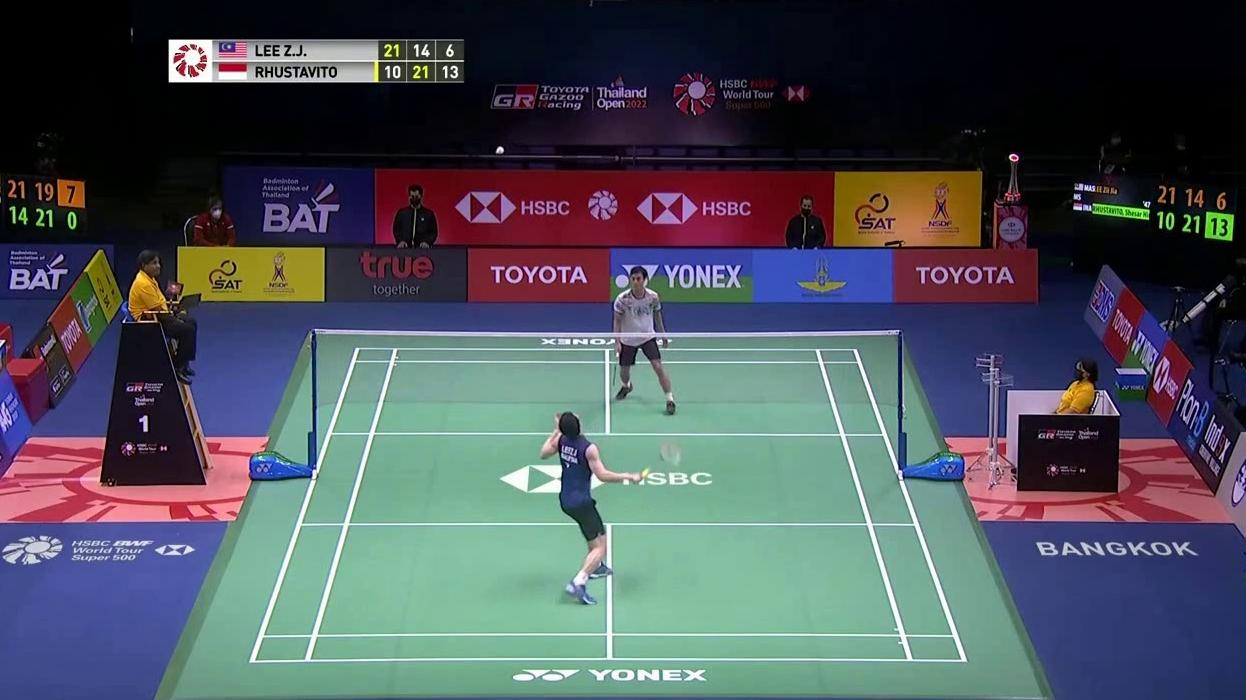racket: (639, 440, 682, 481), (611, 350, 620, 388)
shuttle: (494, 145, 506, 158)
